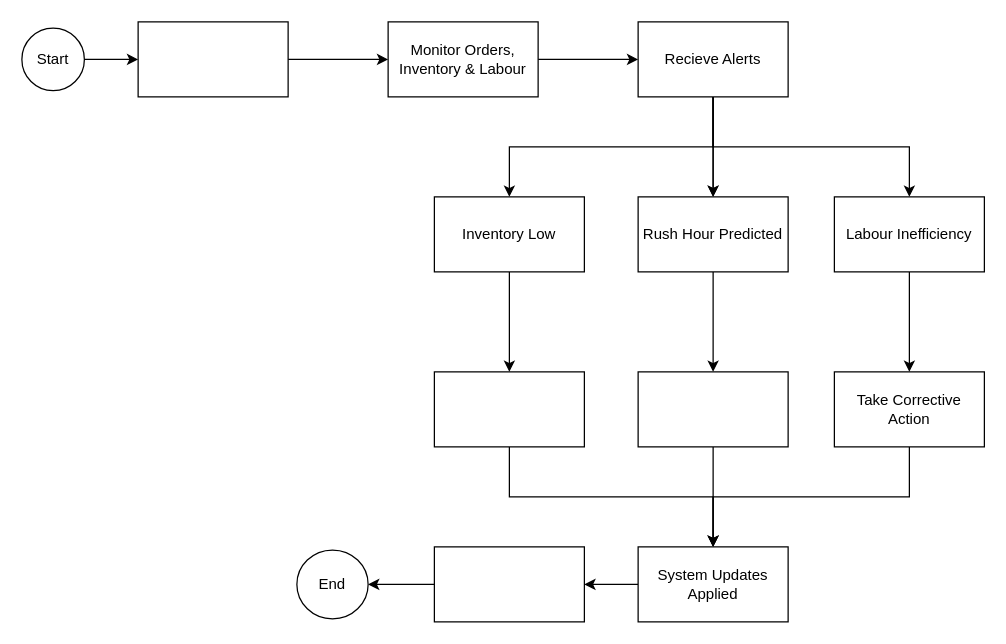
This 1006x644 diagram has some shape labels left out. Each missing label, with the box of its shape:
Adjust Staff Allocation: (637, 371, 788, 447)
Approve / Override Auto‑Order: (433, 371, 584, 447)
Continue Monitoring: (433, 546, 584, 622)
View Manager Dashboard: (137, 21, 288, 97)
